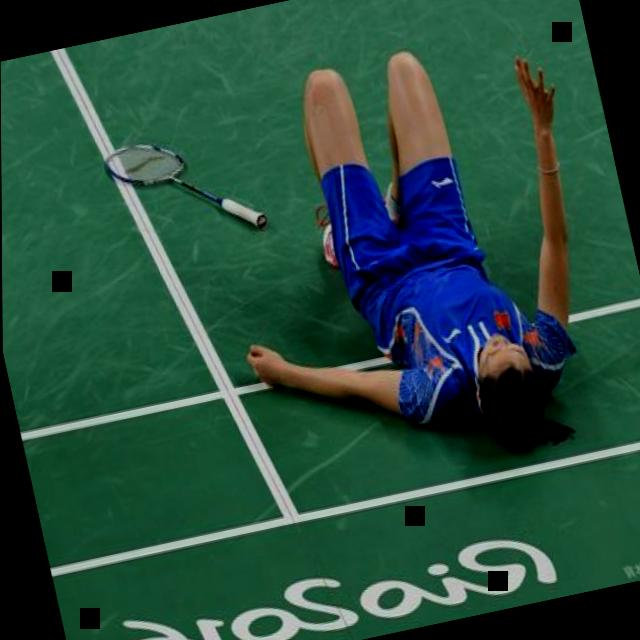Fall-Detected: (170, 0, 636, 487)
